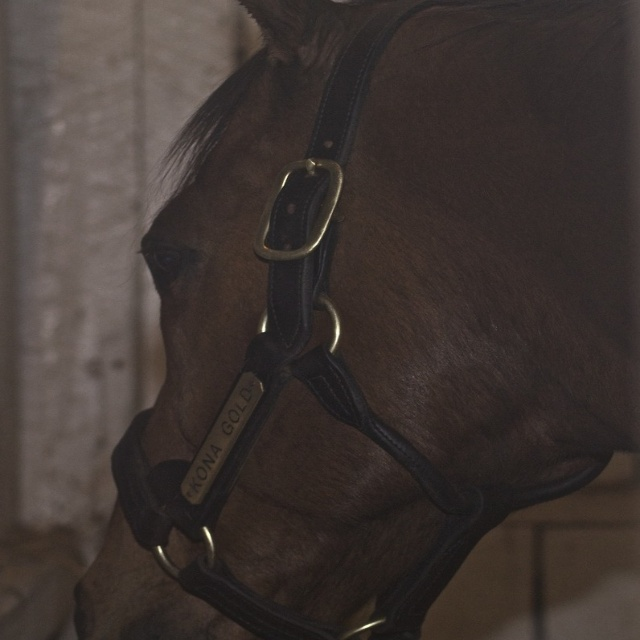Horse: (76, 1, 639, 640)
